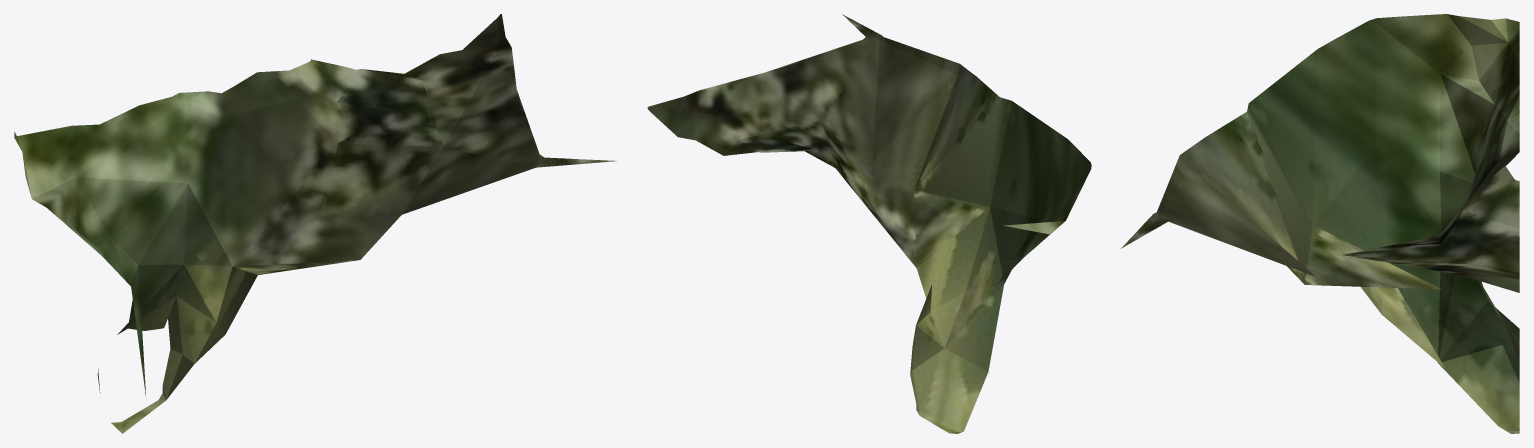
3 renders of one model, left to right at view 1: azimuth 30°, elevation 25°; view 2: azimuth 150°, elevation 25°; view 3: azimuth 270°, elevation 25°, orthographic. The views are drawn at different scales.
Bounding box in the file's own units: 1.59 × 0.968 × 0.9965.
Materials: 1 (1 with a texture image).
